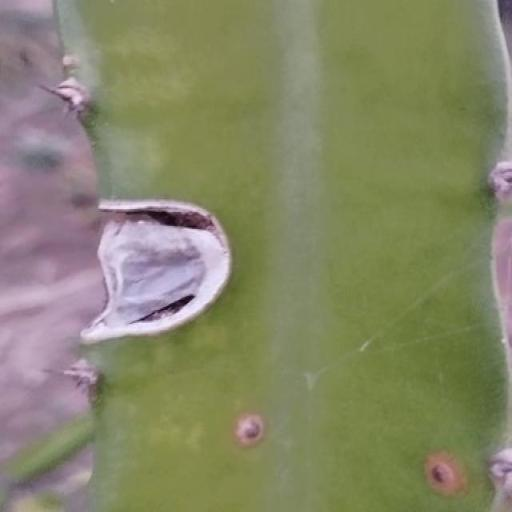stemcanker: (216, 382, 297, 486), (404, 425, 477, 507)
